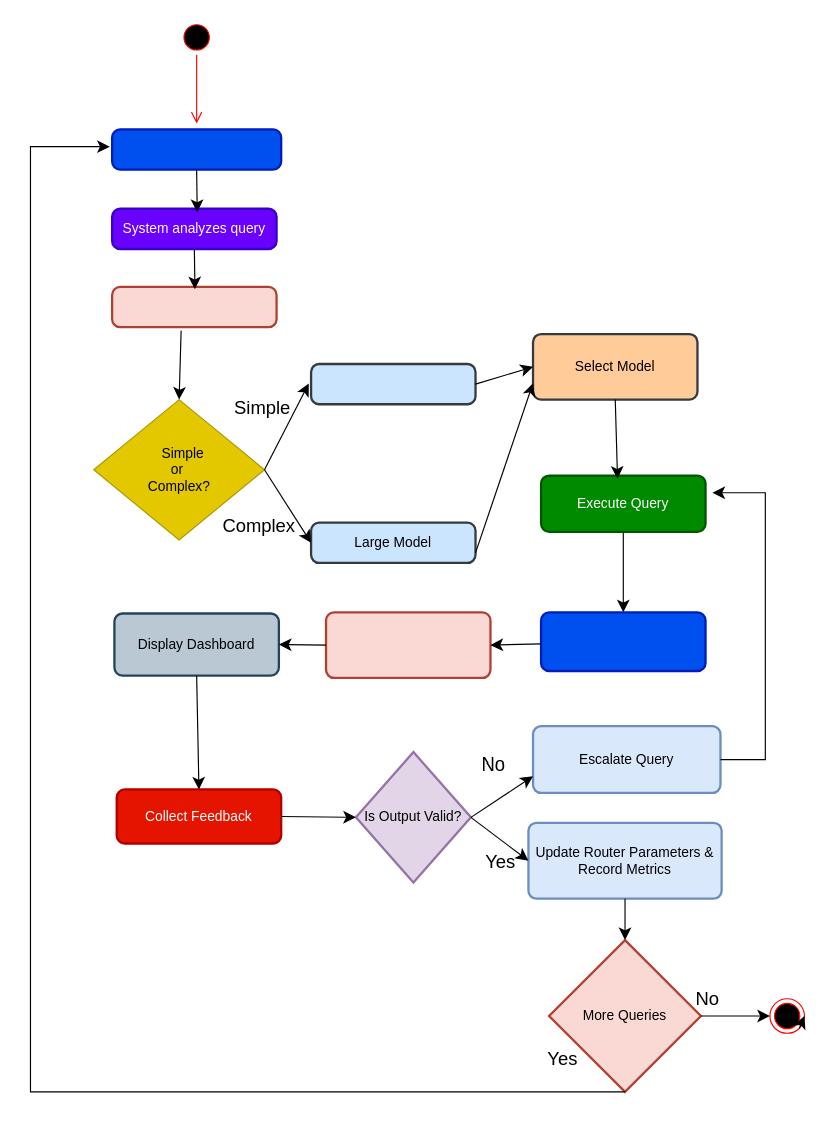
Some shapes in this 826 by 1124 pixel diagram are drawn without their labels. Here are the shapes that lost their labels. From the top down, the box of each, then its label:
(110, 128, 282, 170): User submits a query
(110, 285, 277, 328): System estimate complexity of query
(309, 362, 476, 405): Small model
(324, 611, 491, 678): Explain Routing Decision
(539, 611, 706, 672): Generate Output
